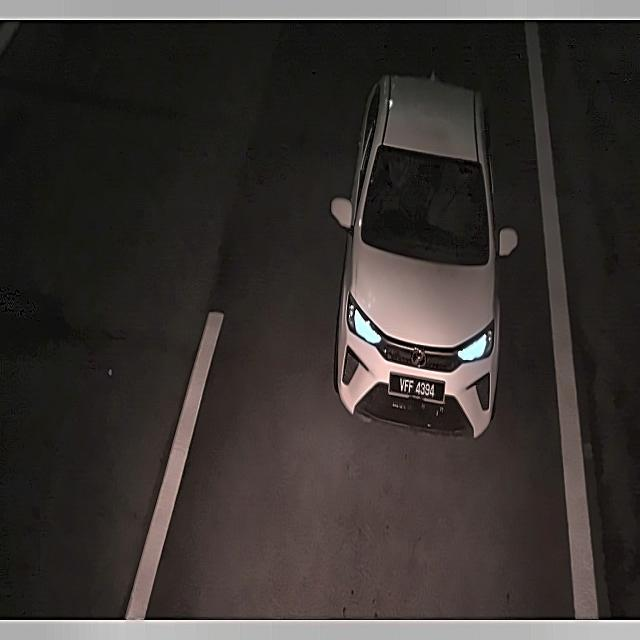car: (386, 363, 452, 410)
